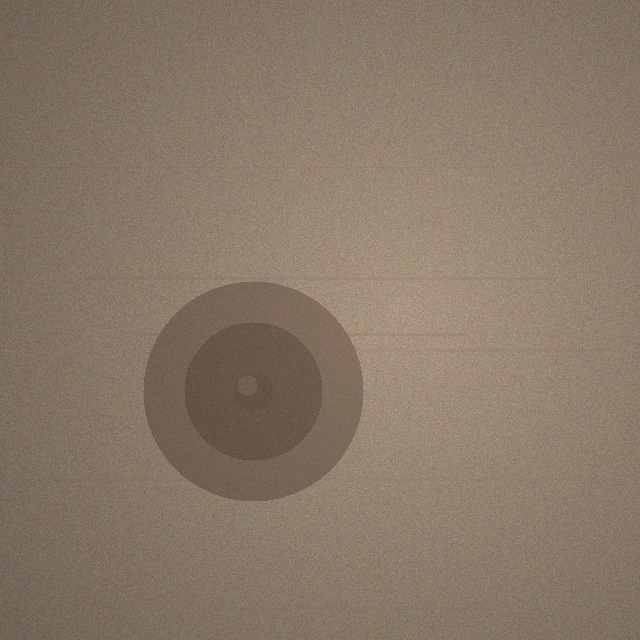good: (143, 281, 363, 501)
